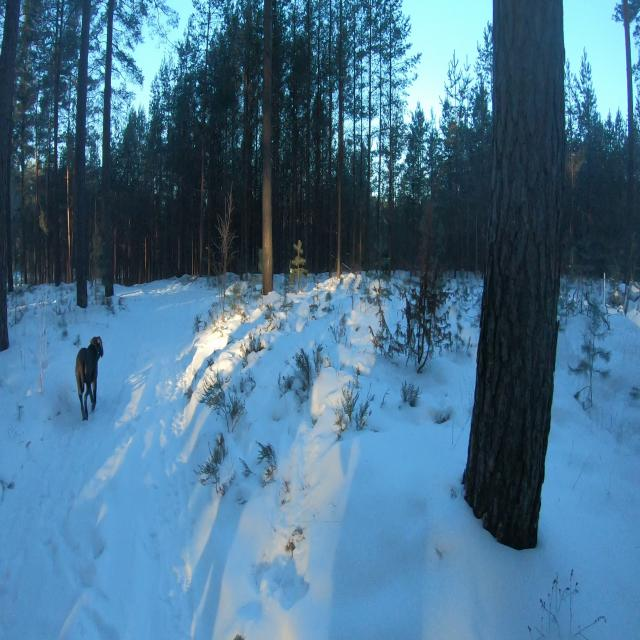bush: (405, 200, 450, 372), (569, 294, 610, 409), (217, 192, 236, 321), (291, 240, 308, 292), (294, 348, 311, 390)
trees: (465, 0, 564, 549), (614, 0, 639, 290), (0, 0, 20, 351), (74, 0, 91, 308), (49, 0, 64, 286), (50, 0, 64, 286), (102, 0, 115, 297), (198, 0, 211, 275), (262, 0, 273, 294), (242, 0, 252, 266), (290, 0, 299, 235), (337, 0, 344, 279), (328, 0, 334, 254), (315, 0, 322, 207), (305, 0, 311, 241), (366, 0, 372, 216), (352, 39, 356, 198), (378, 77, 382, 200), (389, 69, 392, 194), (360, 113, 364, 196), (588, 146, 591, 236), (571, 147, 573, 274), (467, 203, 469, 278), (352, 9, 357, 38), (418, 145, 420, 202), (360, 220, 362, 271), (360, 81, 363, 108), (476, 206, 477, 274), (456, 145, 457, 195), (413, 150, 414, 199), (353, 218, 355, 242), (393, 163, 394, 207), (431, 147, 432, 188), (360, 69, 362, 81)
